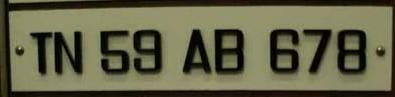5: (96, 24, 133, 75)
6: (265, 24, 302, 82)
7: (300, 23, 335, 81)
8: (336, 19, 368, 77)
9: (131, 27, 166, 76)
A: (180, 25, 214, 76)
B: (212, 22, 247, 78)
N: (52, 28, 88, 77)
T: (27, 27, 53, 79)
